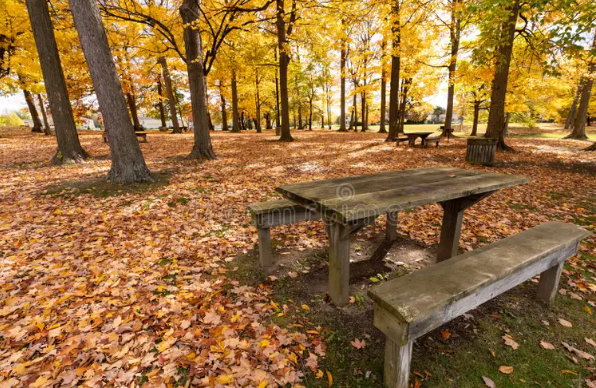obstacle: (242, 159, 589, 385)
